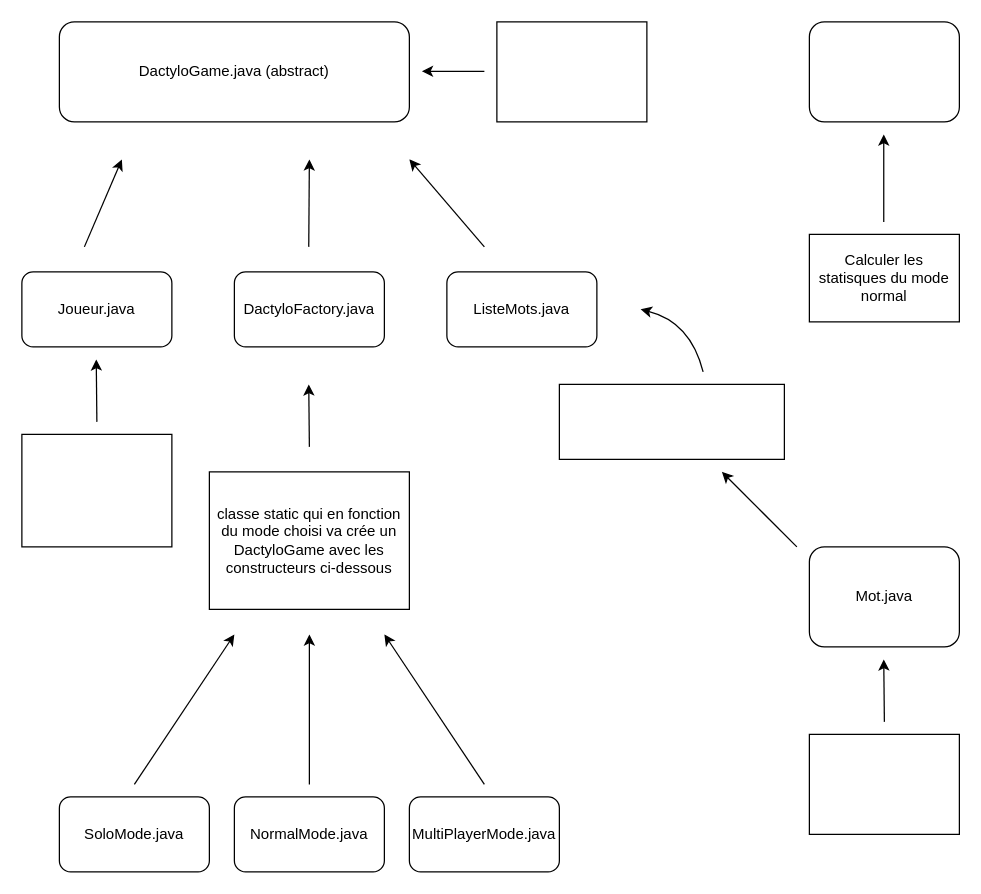
The diagram is 981 pixels wide and 894 high, and some of its shapes have lost their labels. The shapes that lost their labels are listed below. From the top down, each one's box as (x1, y1, x2, y2) in pixels, then its label:
(496, 21, 647, 122): Factory Design Pattern
(808, 21, 959, 122): Stats.java
(558, 383, 784, 459): Récupère les mots à partir d'un fichier
(21, 433, 172, 547): initialisation de joueur avec nom et nombre de vies
(808, 733, 959, 834): utilisation de builder pour création des mots
